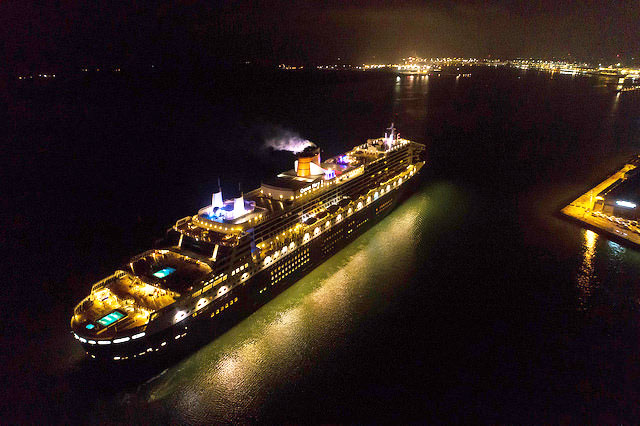cruise_ship: (68, 122, 430, 371)
